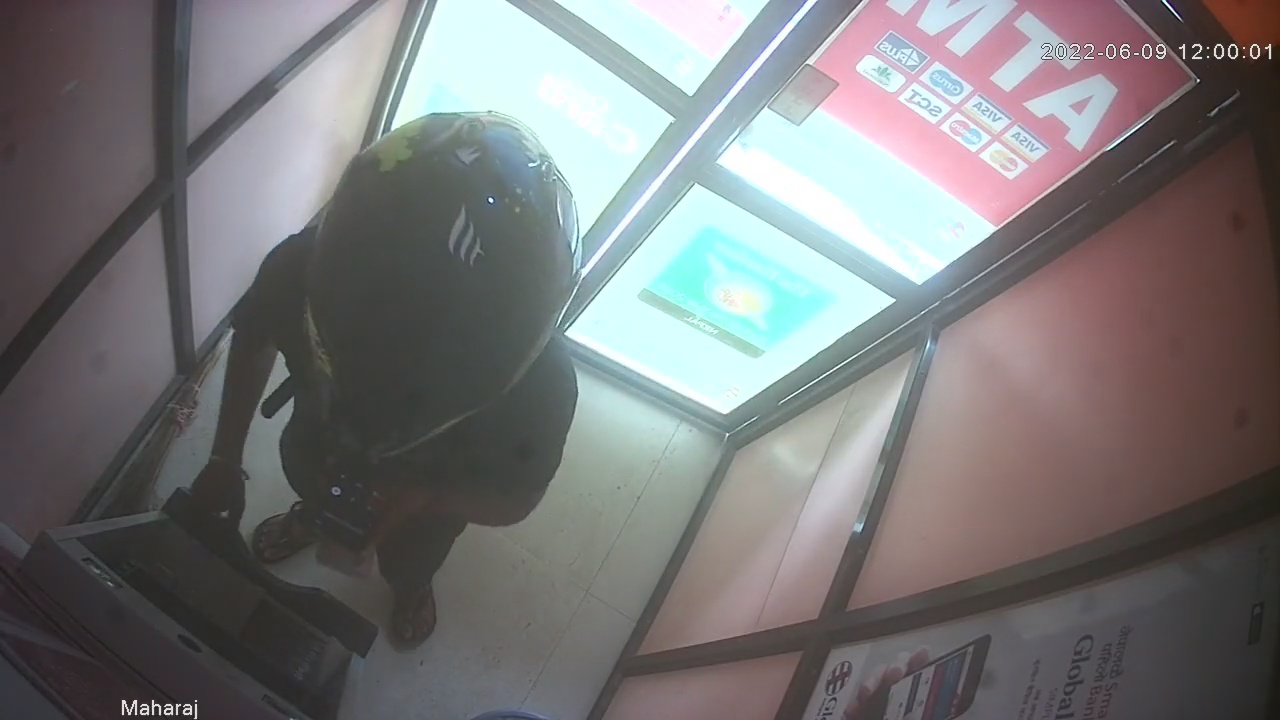helmet: (298, 113, 583, 462)
person: (192, 108, 583, 658)
